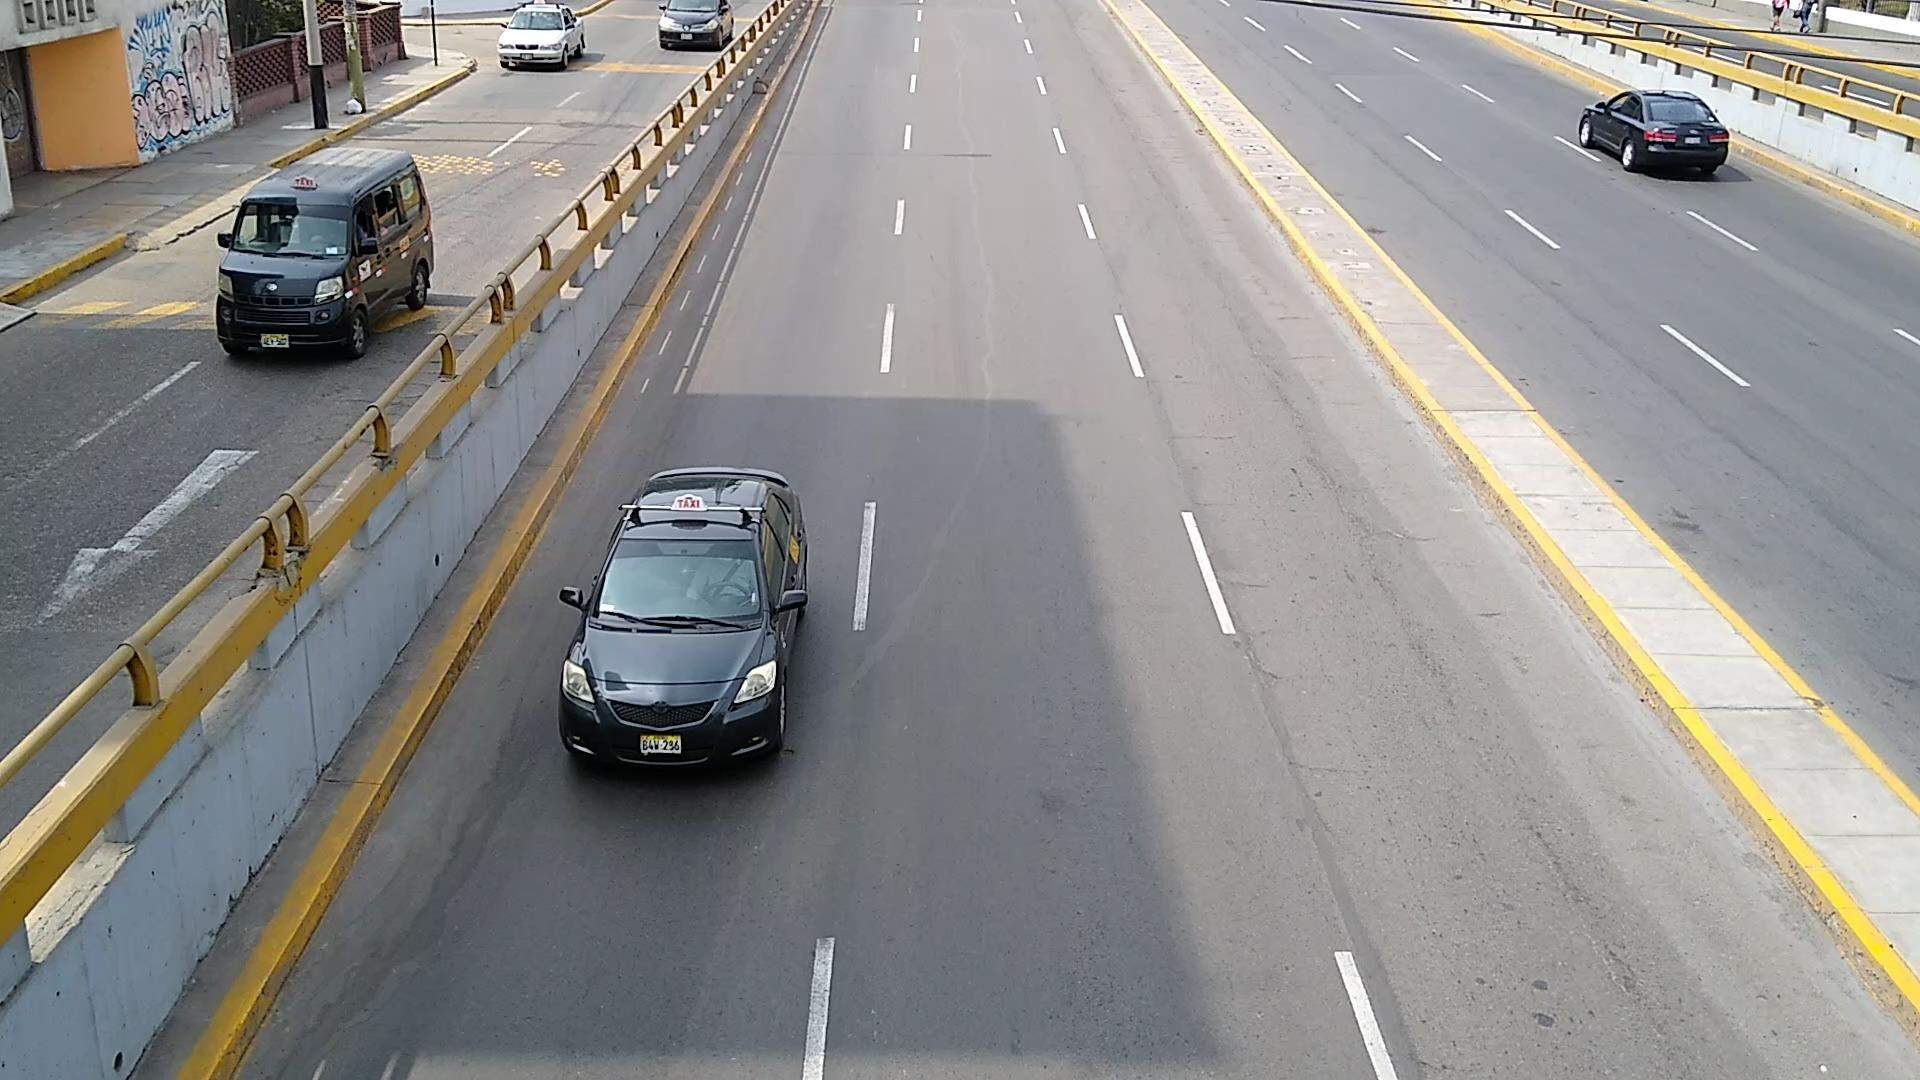car: (559, 468, 810, 765), (1578, 90, 1729, 173), (498, 4, 585, 71), (659, 0, 735, 49)
minivan: (214, 146, 435, 356)
